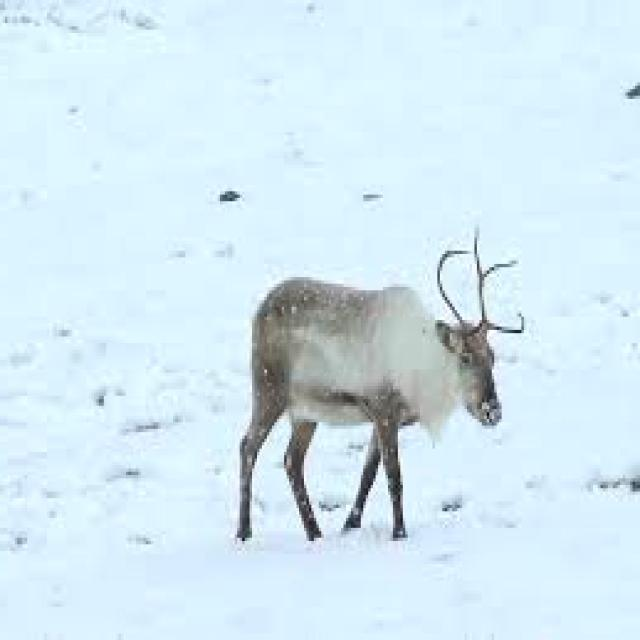reindeer: (240, 256, 516, 538)
